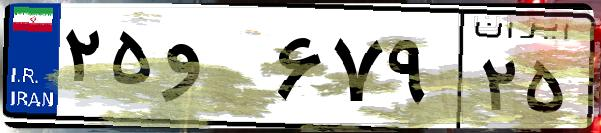2: (57, 26, 110, 100), (475, 38, 525, 113)
5: (525, 38, 570, 115), (110, 28, 158, 98)
6: (270, 28, 330, 110)
7: (330, 28, 385, 110)
9: (385, 28, 445, 110)
و: (158, 20, 270, 120)
